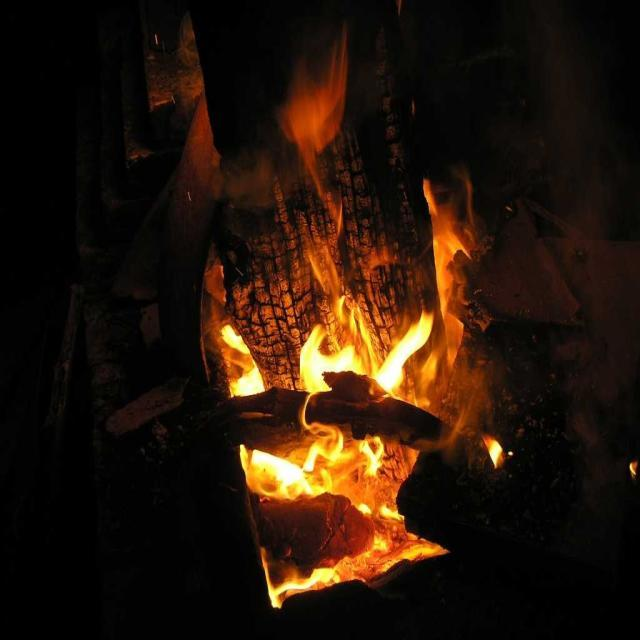Fire: (388, 310, 438, 382), (252, 450, 308, 500), (299, 342, 359, 380)
